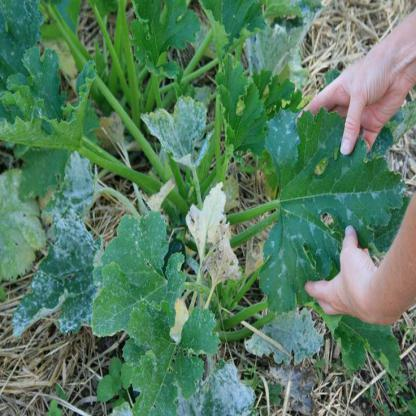Squash Powdery mildew leaf: (257, 95, 405, 300), (126, 303, 249, 415), (139, 98, 214, 167)
